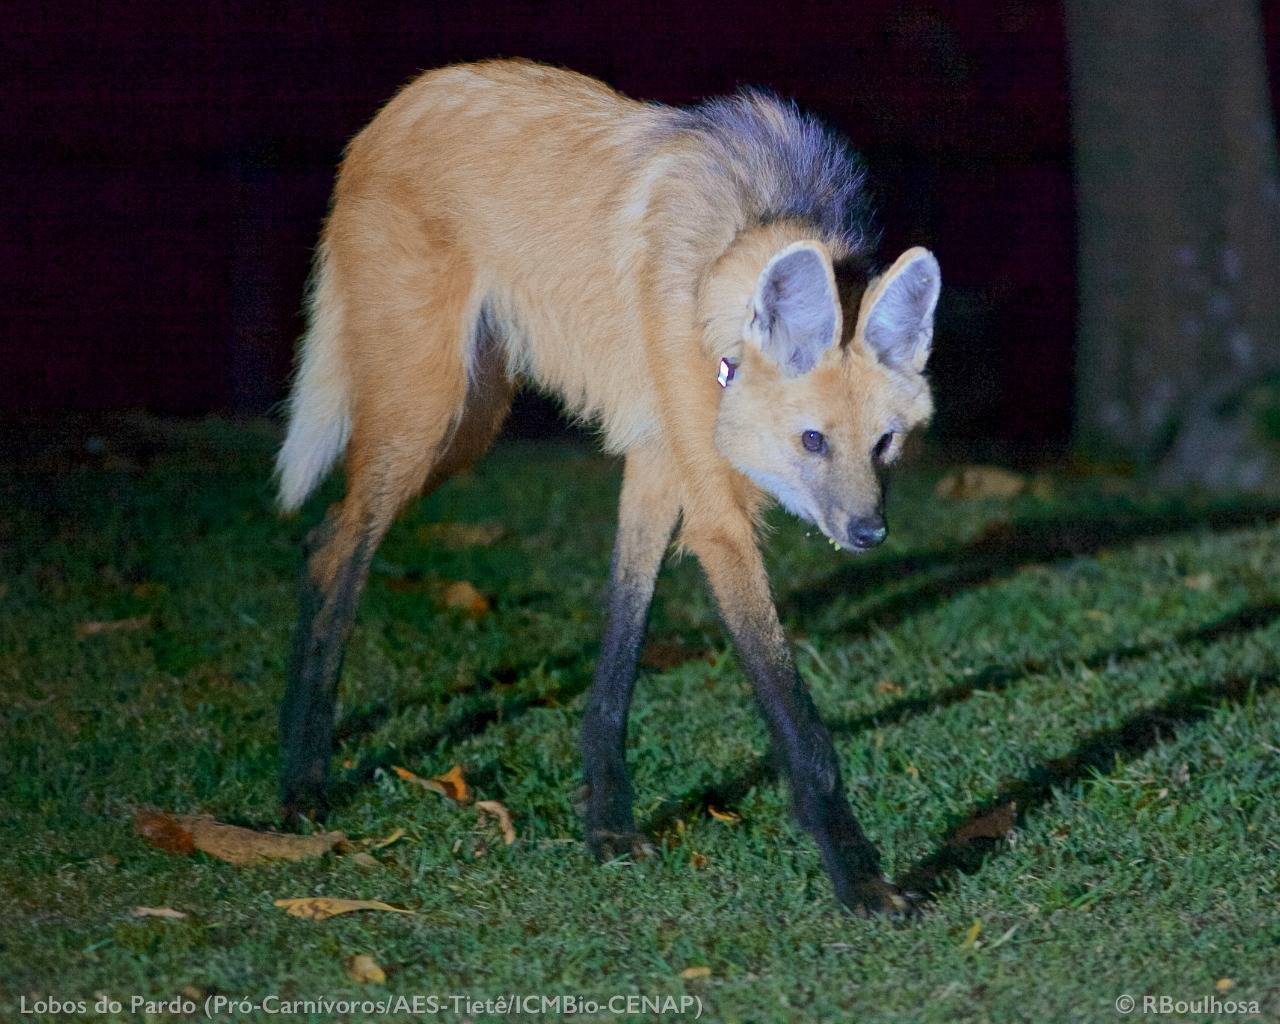LoboGuara: (262, 48, 958, 946)
